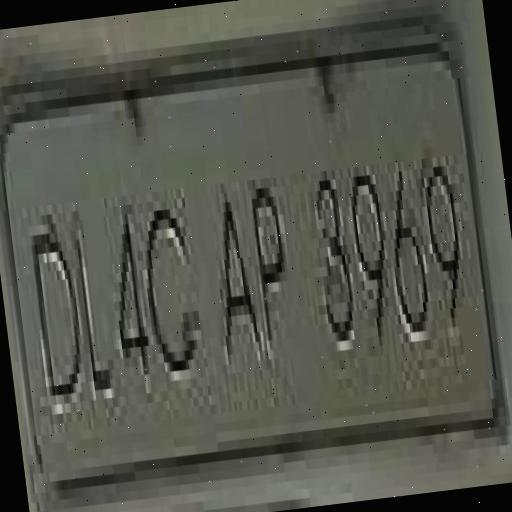number plate: (0, 12, 498, 493)
